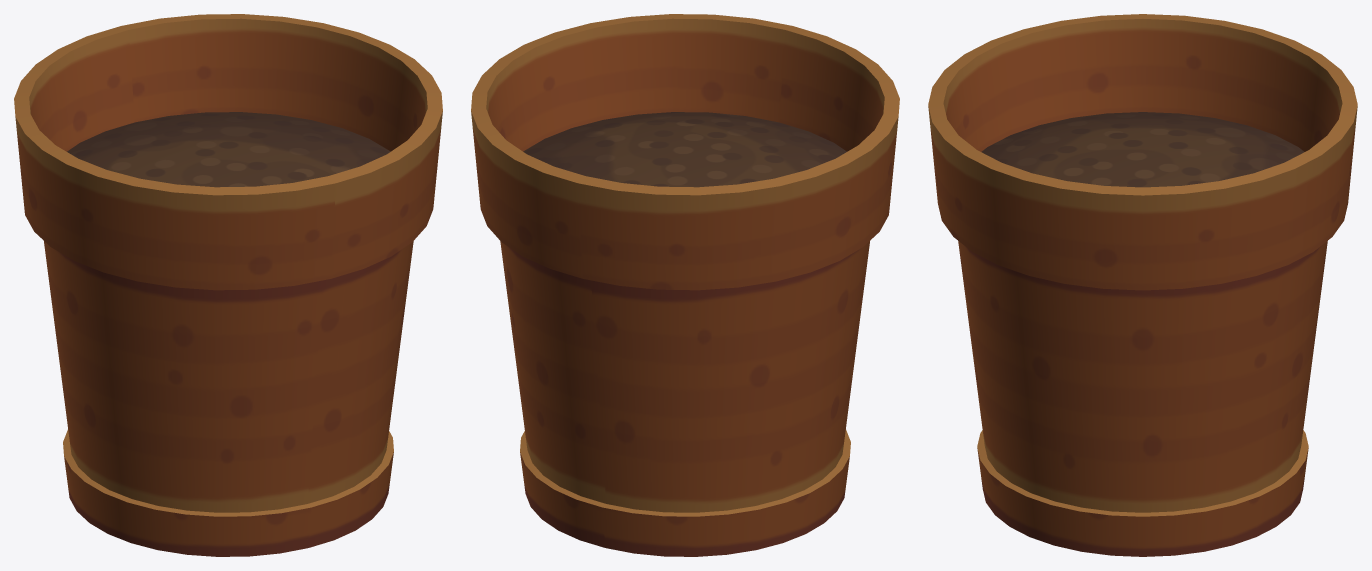
File: PlantPot01.fbx
The picture shows the model from 3 angles, left to right: view 1: azimuth 30°, elevation 25°; view 2: azimuth 150°, elevation 25°; view 3: azimuth 270°, elevation 25°; orthographic projection.
Parts seen in each view (by area): view 1: Cylinder; view 2: Cylinder; view 3: Cylinder.
Part boxes in pixels (x1=…): Cylinder: x1=14, y1=14, x2=442, y2=556; Cylinder: x1=471, y1=14, x2=899, y2=556; Cylinder: x1=928, y1=14, x2=1357, y2=556.
Bounding box in the file's own units: 1.05 × 1.04 × 1.05.
